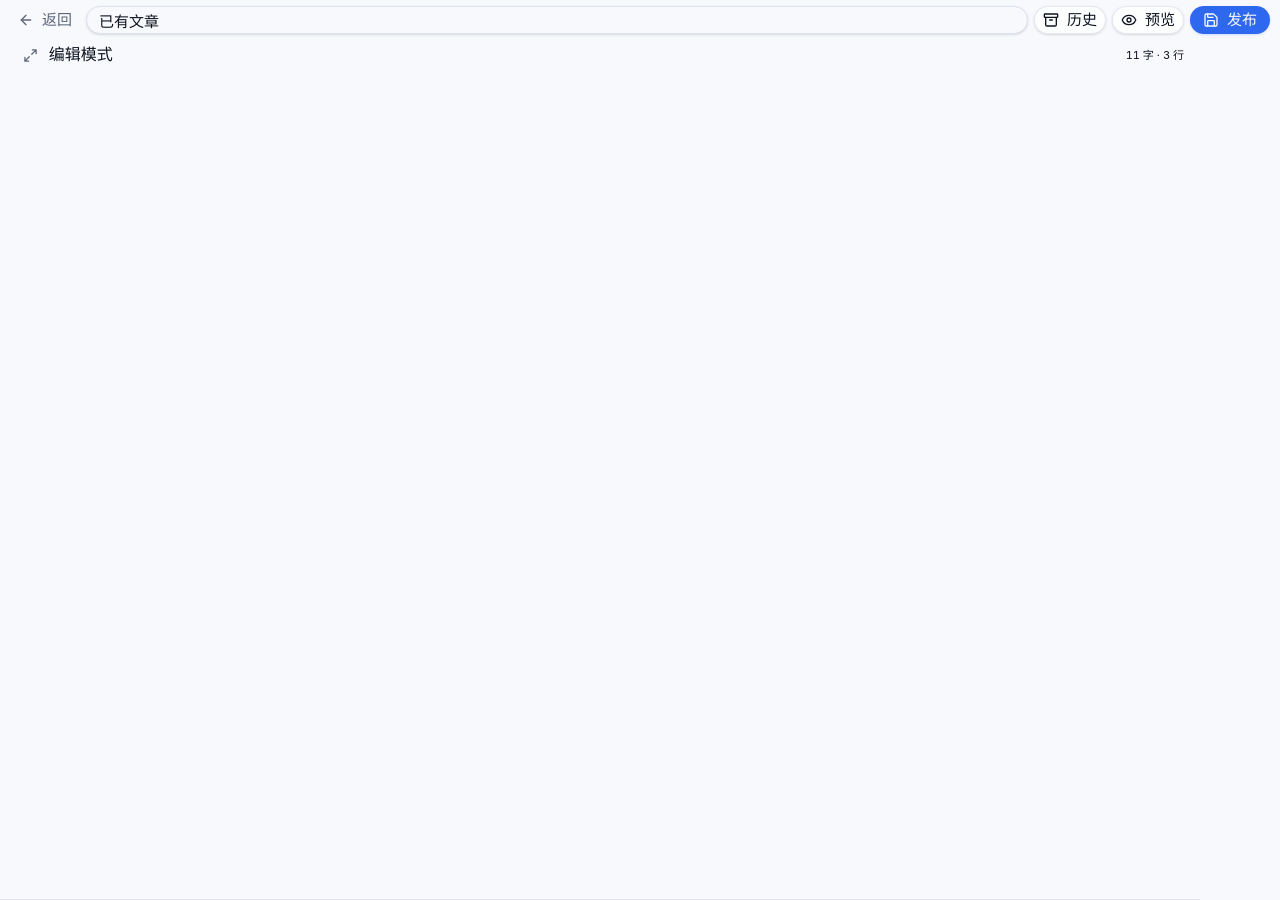
BlogEditor 核心回归 › 恢复前存在未保存修改时可以先保存为历史版本
Type "（未保存修改）" into the field with placeholder "输入文章标题..." at x=557, y=20, box [86,6,1028,34]
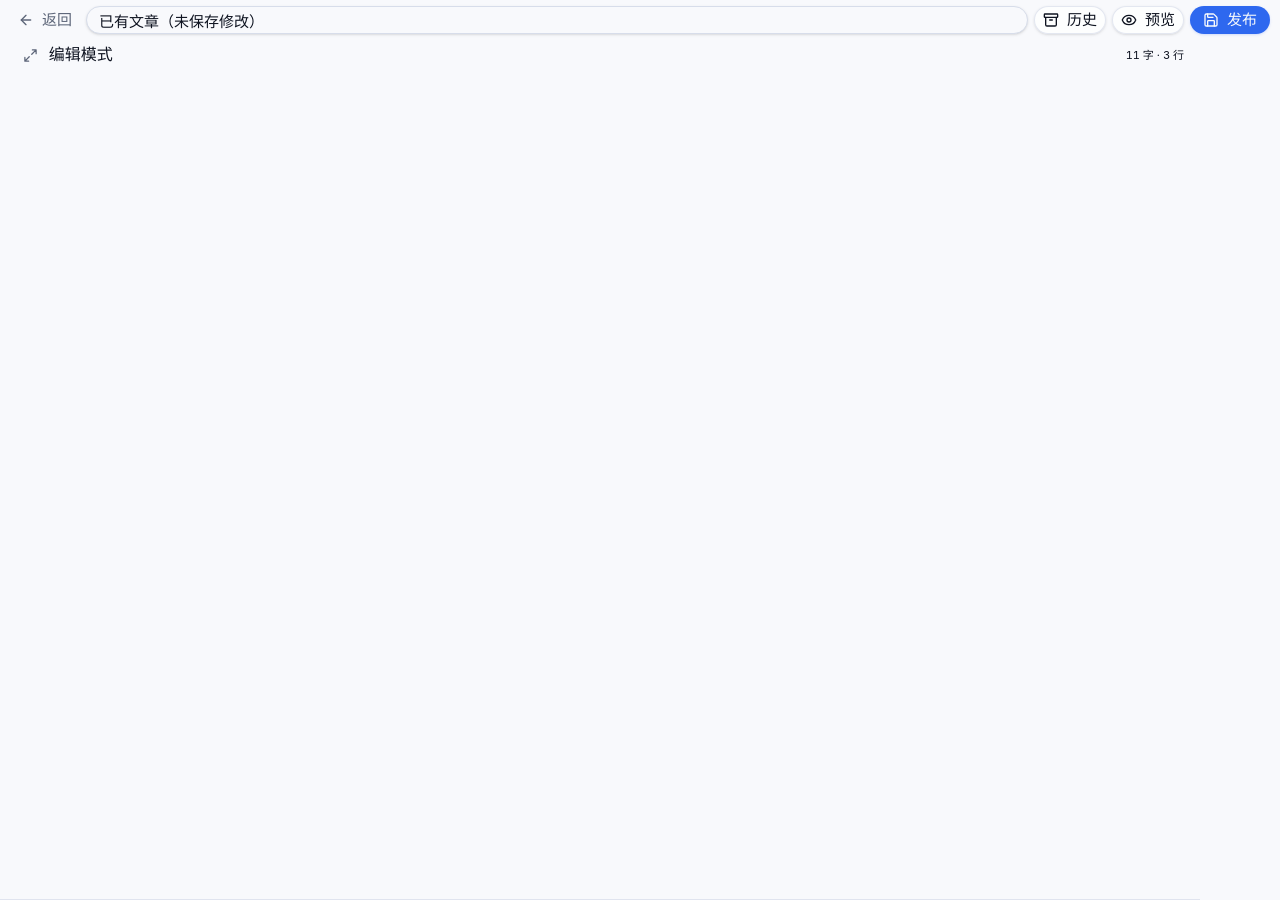
Click the button "历史" at x=1070, y=20, box [1034,6,1106,34]
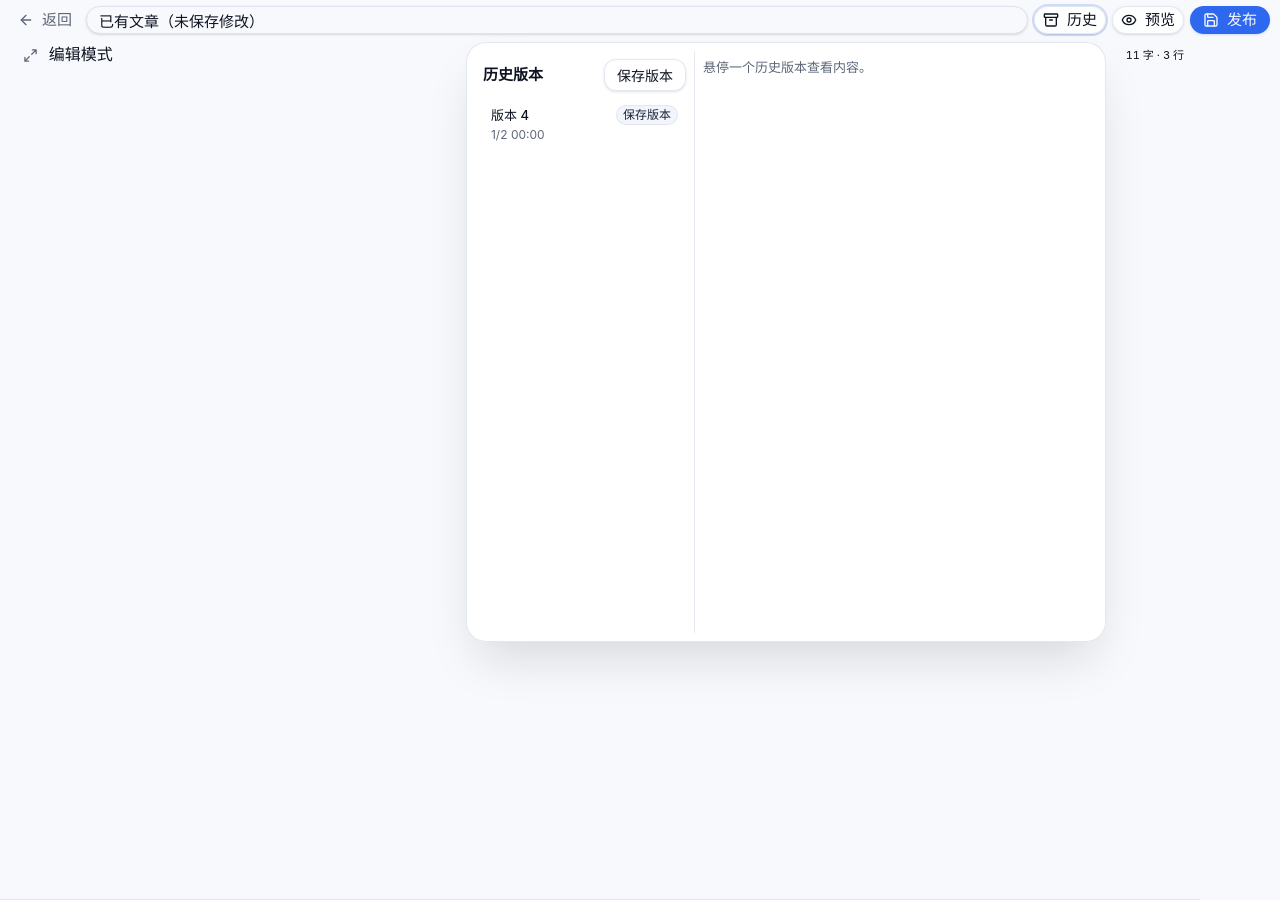
Hover over the button "版本 4 保存版本 1/2 00:00" at x=584, y=124, box [483,99,686,148]
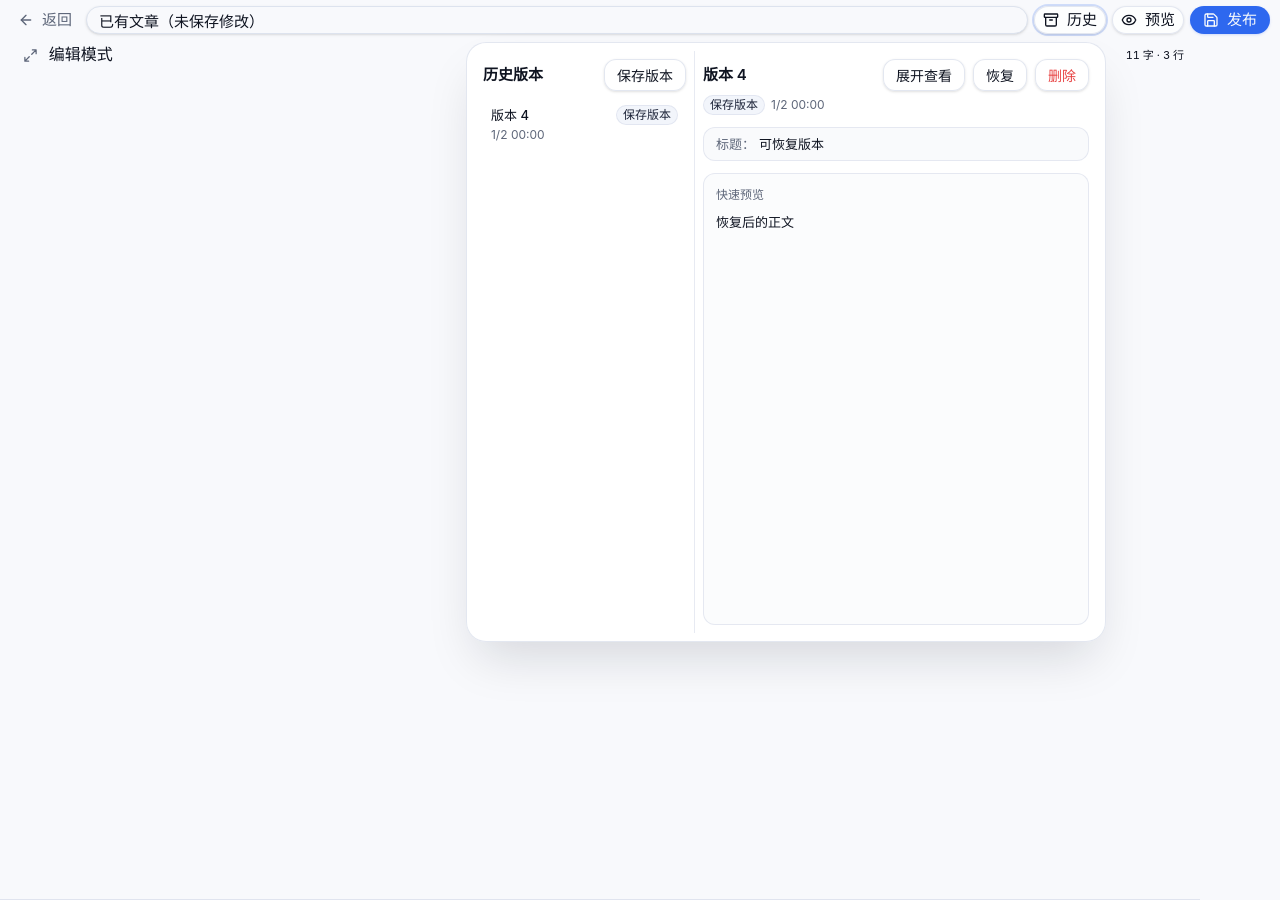
Click the button "恢复" at x=1000, y=75, box [973,59,1027,91]
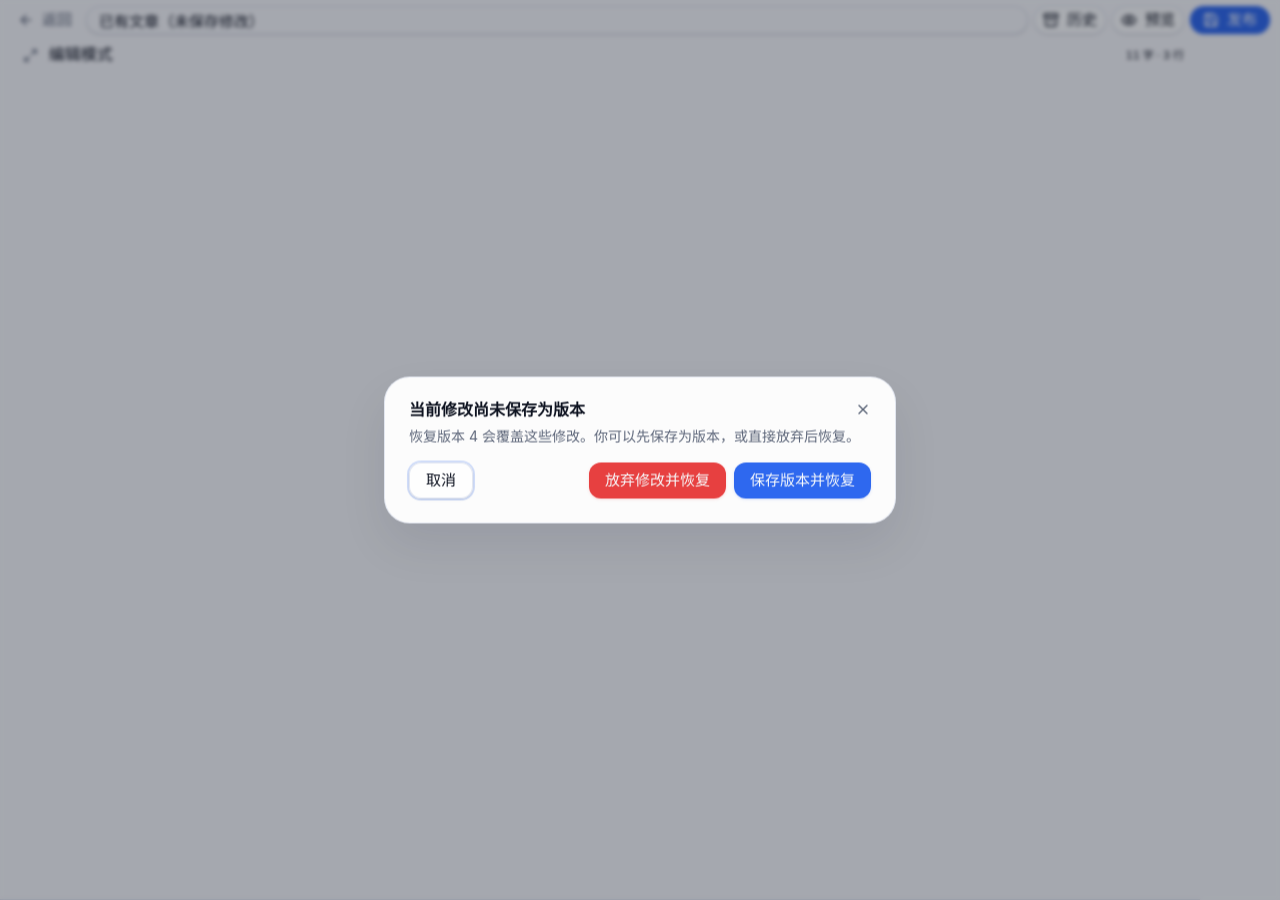
Click the button "保存版本并恢复" at x=802, y=480, box [734,462,871,498]
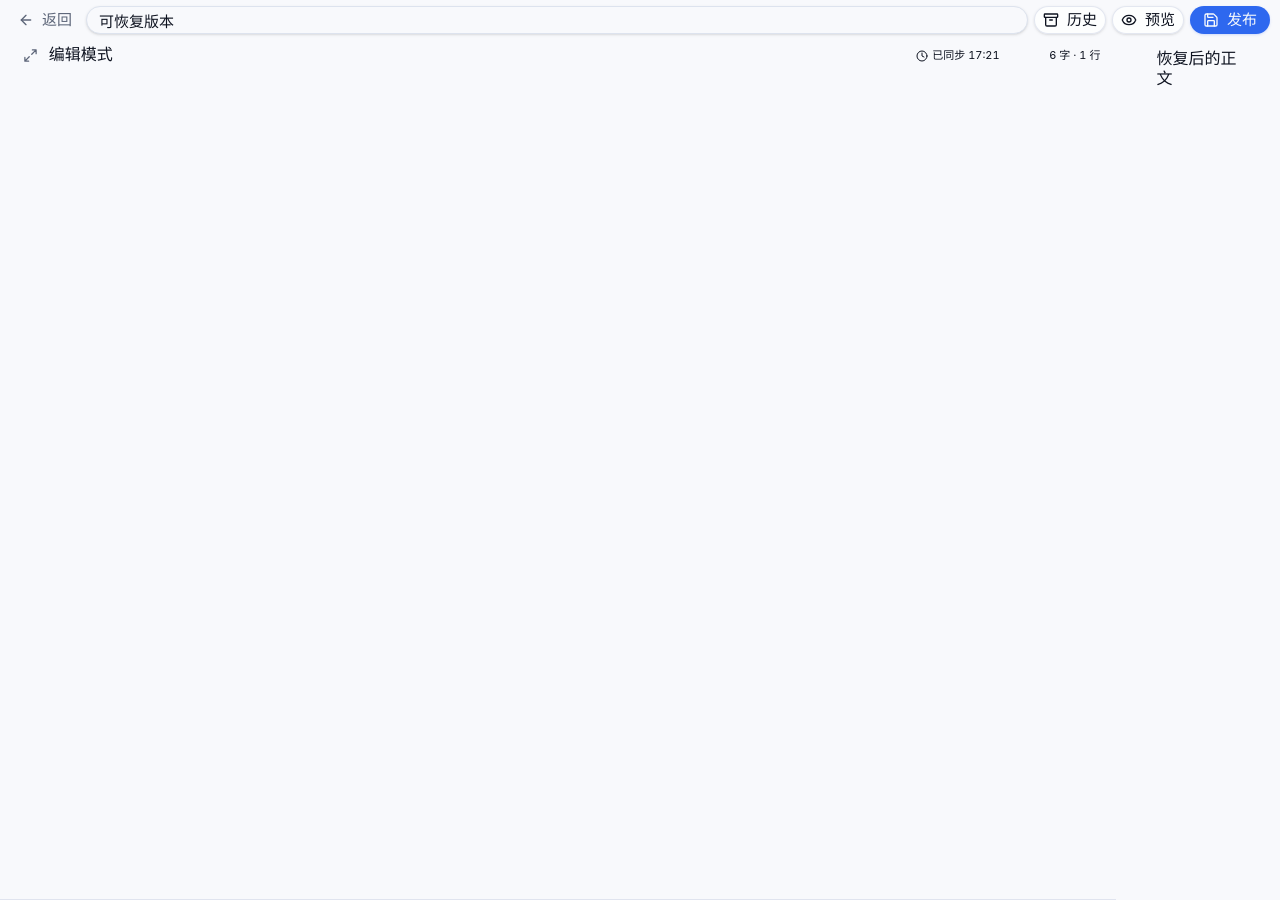
Check: the field with placeholder "输入文章标题..." holds "可恢复版本", box [86,6,1028,34]
